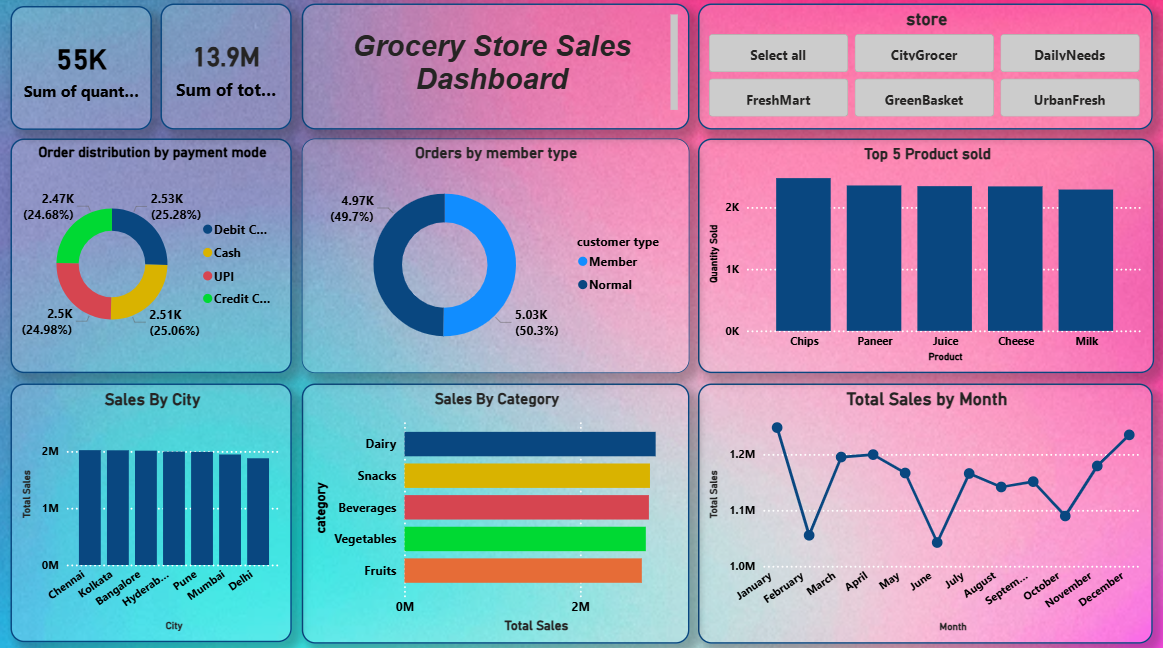

The dashboard page shown, as its layout file describes it:
{"tool":"powerbi","page":{"name":"Page 1","canvas":[1280,720],"ordinal":0},"visuals":[{"type":"lineChart","title":"Total Sales by Month","fields":{"Category":["grocery store dataset.Month Name"],"Y":["Sum(grocery store dataset.total revenue)"]},"box":[768.4,425.4,499.5,285.4],"z":0},{"type":"donutChart","title":"Order distribution by payment mode","fields":{"Category":["grocery store dataset.payment method"],"Y":["Count(grocery store dataset.order id)"]},"box":[13.7,156.4,308.7,258],"z":1000},{"type":"columnChart","title":"Top 5 Product sold","fields":{"Category":["grocery store dataset.product"],"Y":["Sum(grocery store dataset.quantity)"]},"box":[768.4,156.4,500.9,258],"z":2000},{"type":"textbox","box":[333.4,8.2,425.4,138.6],"z":3000},{"type":"card","fields":{"Values":["Sum(grocery store dataset.quantity)"]},"box":[13.7,11,155.1,135.8],"z":4000},{"type":"card","fields":{"Values":["Sum(grocery store dataset.total revenue)"]},"box":[178.4,8.2,144.1,138.6],"z":5000},{"type":"barChart","title":"Sales By Category","fields":{"Category":["grocery store dataset.category"],"Y":["Sum(grocery store dataset.total revenue)"]},"box":[333.4,425.4,425.4,285.4],"z":6000},{"type":"columnChart","title":"Sales By City","fields":{"Category":["grocery store dataset.city"],"Y":["Sum(grocery store dataset.total revenue)"]},"box":[13.7,425.4,308.7,284],"z":7000},{"type":"advancedSlicerVisual","fields":{"Values":["grocery store dataset.store"]},"box":[768.4,8.2,499.5,138.6],"z":8000},{"type":"donutChart","title":"Orders by member type","fields":{"Category":["grocery store dataset.customer type"],"Y":["CountNonNull(grocery store dataset.order id)"]},"box":[333.4,156.4,425.4,258],"z":9000}]}

Visuals, with their boxes in screenshot pixels (x1, y1, x2, y2), scaled from the page's 1280x720 canvas onto the 1163x648 screenshot:
"Total Sales by Month" lineChart: pyautogui.locateOnScreen(698, 383, 1152, 640)
"Order distribution by payment mode" donutChart: pyautogui.locateOnScreen(12, 141, 293, 373)
"Top 5 Product sold" columnChart: pyautogui.locateOnScreen(698, 141, 1153, 373)
textbox: pyautogui.locateOnScreen(303, 7, 689, 132)
card - Sum(grocery store dataset.quantity): pyautogui.locateOnScreen(12, 10, 153, 132)
card - Sum(grocery store dataset.total revenue): pyautogui.locateOnScreen(162, 7, 293, 132)
"Sales By Category" barChart: pyautogui.locateOnScreen(303, 383, 689, 640)
"Sales By City" columnChart: pyautogui.locateOnScreen(12, 383, 293, 638)
advancedSlicerVisual - grocery store dataset.store: pyautogui.locateOnScreen(698, 7, 1152, 132)
"Orders by member type" donutChart: pyautogui.locateOnScreen(303, 141, 689, 373)
